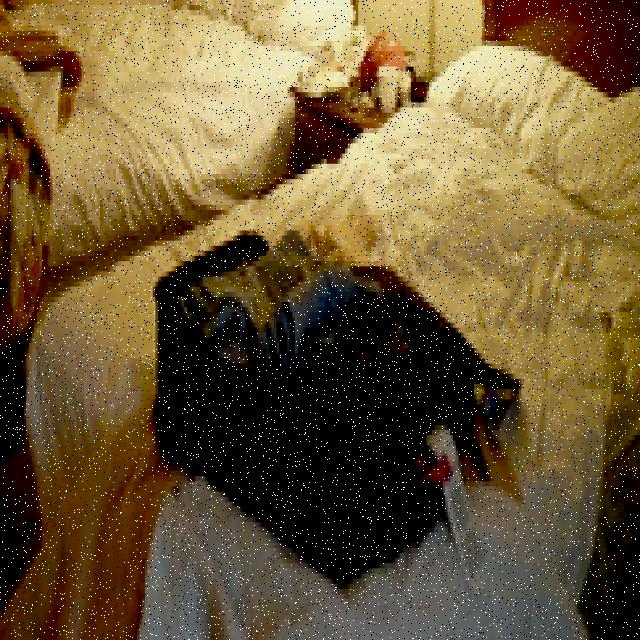bed: (26, 36, 640, 640)
